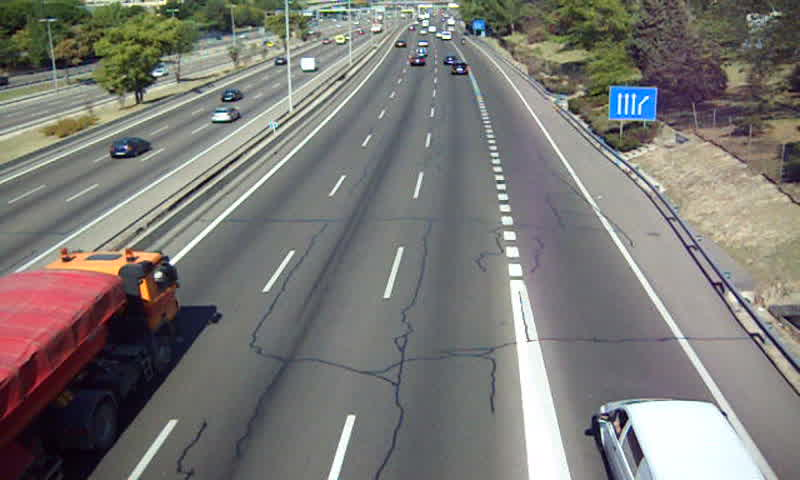car: (450, 62, 470, 77)
truck: (1, 249, 177, 480)
van: (598, 399, 770, 480)
